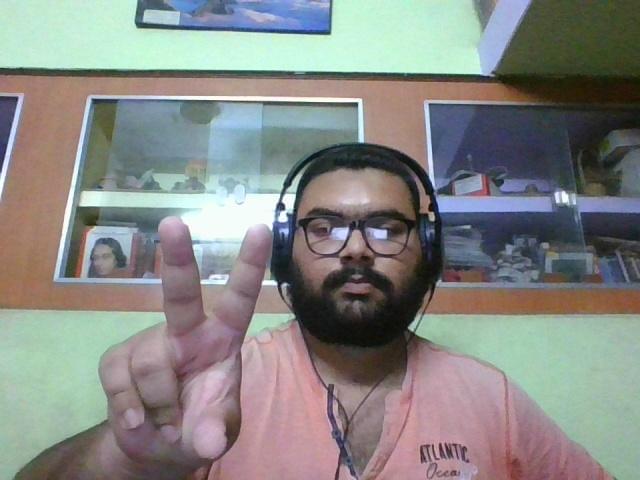iloveyou: (99, 216, 276, 477)
